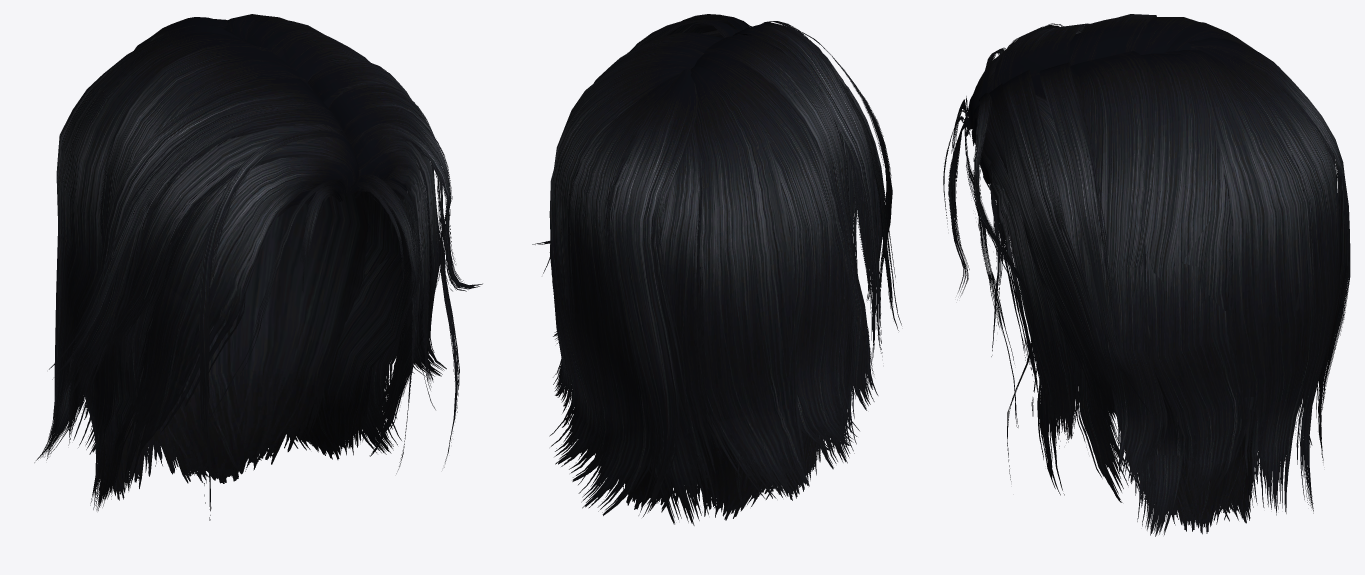
The model's file is haircut.fbx.
3 renders of one model, left to right at view 1: azimuth 30°, elevation 25°; view 2: azimuth 150°, elevation 25°; view 3: azimuth 270°, elevation 25°, orthographic. The views are drawn at different scales.
Visible parts, largest first — view 1: Head; view 2: Head; view 3: Head.
Part boxes in pixels (x1,y1,x2,y2): Head: (34, 14, 482, 520); Head: (532, 14, 901, 525); Head: (943, 14, 1350, 536).
Size of the model in its own units: 0.2798 by 0.3033 by 0.2289.
Materials: 1 (1 with a texture image).
